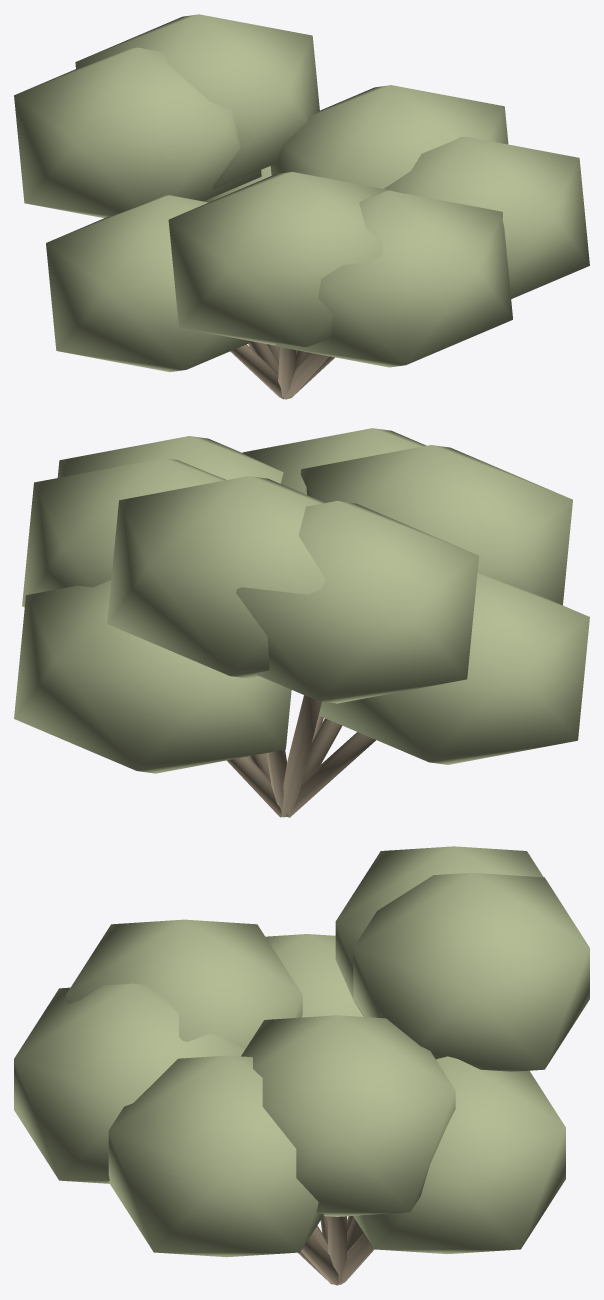
The model's file is arizona-creosote_lod0.glb.
3 renders of one model, top to bottom at view 1: azimuth 30°, elevation 25°; view 2: azimuth 150°, elevation 25°; view 3: azimuth 270°, elevation 25°, orthographic. The views are drawn at different scales.
Parts seen in each view (by area): view 1: RF_ShrubLeaves.001, RF_ShrubLeaves.007, RF_ShrubLeaves.002, RF_ShrubLeaves.004, RF_ShrubLeaves.006, RF_ShrubLeaves.005, RF_ShrubLeaves, RF_ShrubBranch.005, RF_ShrubBranch.003, RF_ShrubBranch; view 2: RF_ShrubLeaves.001, RF_ShrubLeaves.003, RF_ShrubLeaves.006, RF_ShrubLeaves.004, RF_ShrubLeaves.007, RF_ShrubLeaves, RF_ShrubLeaves.005, RF_ShrubLeaves.002, RF_ShrubBranch.002, RF_ShrubBranch.005, RF_ShrubBranch.004, RF_ShrubBranch (+1 smaller); view 3: RF_ShrubLeaves.006, RF_ShrubLeaves.005, RF_ShrubLeaves, RF_ShrubLeaves.003, RF_ShrubLeaves.002, RF_ShrubLeaves.007, RF_ShrubLeaves.001, RF_ShrubLeaves.004, RF_ShrubBranch.001, RF_ShrubBranch.006, RF_ShrubBranch.004.
Part boxes in pixels (left/top/right/bottom): RF_ShrubLeaves.001: left=14, top=47, right=261, bottom=217; RF_ShrubLeaves.007: left=168, top=172, right=405, bottom=347; RF_ShrubLeaves.002: left=275, top=190, right=512, bottom=367; RF_ShrubLeaves.004: left=46, top=195, right=252, bottom=372; RF_ShrubLeaves.006: left=75, top=14, right=319, bottom=188; RF_ShrubLeaves.005: left=384, top=136, right=589, bottom=298; RF_ShrubLeaves: left=270, top=85, right=508, bottom=188; RF_ShrubBranch.005: left=230, top=344, right=284, bottom=399; RF_ShrubBranch.003: left=284, top=353, right=329, bottom=399; RF_ShrubBranch: left=278, top=347, right=296, bottom=398; RF_ShrubLeaves.001: left=236, top=501, right=478, bottom=703; RF_ShrubLeaves.003: left=14, top=580, right=291, bottom=773; RF_ShrubLeaves.006: left=107, top=476, right=325, bottom=678; RF_ShrubLeaves.004: left=318, top=573, right=589, bottom=764; RF_ShrubLeaves.007: left=300, top=445, right=572, bottom=605; RF_ShrubLeaves: left=22, top=458, right=226, bottom=606; RF_ShrubLeaves.005: left=57, top=436, right=283, bottom=483; RF_ShrubLeaves.002: left=242, top=428, right=426, bottom=494; RF_ShrubBranch.002: left=281, top=695, right=321, bottom=817; RF_ShrubBranch.005: left=287, top=732, right=375, bottom=817; RF_ShrubBranch.004: left=227, top=756, right=281, bottom=817; RF_ShrubBranch: left=302, top=718, right=342, bottom=780; RF_ShrubLeaves.006: left=353, top=872, right=589, bottom=1071; RF_ShrubLeaves.005: left=108, top=1055, right=324, bottom=1257; RF_ShrubLeaves: left=241, top=1015, right=455, bottom=1216; RF_ShrubLeaves.003: left=353, top=1056, right=565, bottom=1254; RF_ShrubLeaves.002: left=14, top=983, right=244, bottom=1183; RF_ShrubLeaves.007: left=66, top=919, right=302, bottom=1049; RF_ShrubLeaves.001: left=335, top=846, right=543, bottom=1016; RF_ShrubLeaves.004: left=265, top=934, right=363, bottom=1017; RF_ShrubBranch.001: left=328, top=1216, right=346, bottom=1283; RF_ShrubBranch.006: left=301, top=1235, right=338, bottom=1285; RF_ShrubBranch.004: left=339, top=1233, right=374, bottom=1284.
Bounding box in the file's own units: 2.31 × 1.56 × 2.07.
